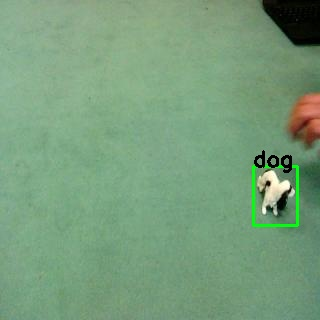dog: (251, 164, 299, 222)
